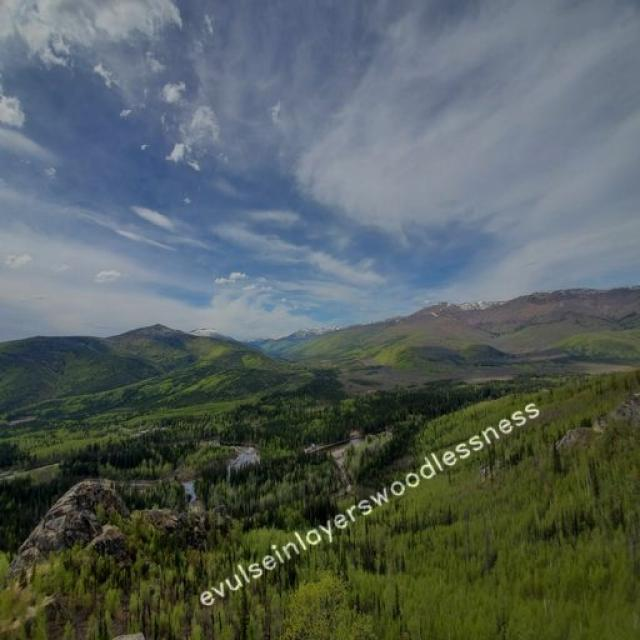watermark: (195, 390, 541, 612)
